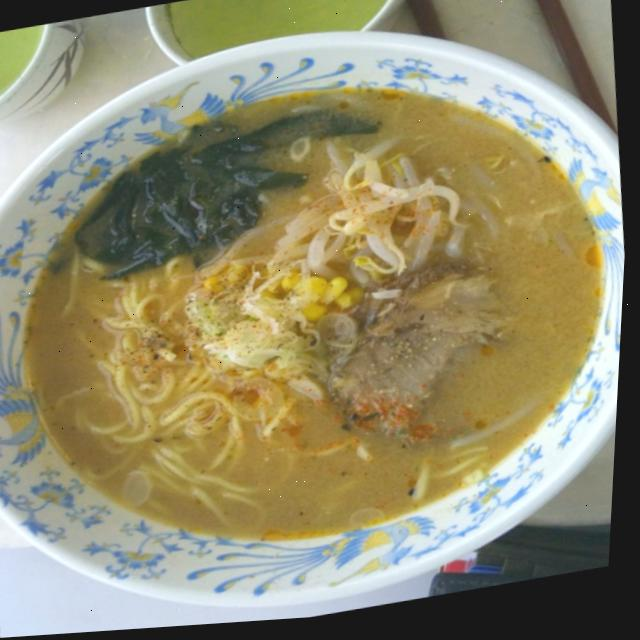面条主食: (0, 13, 638, 636)
